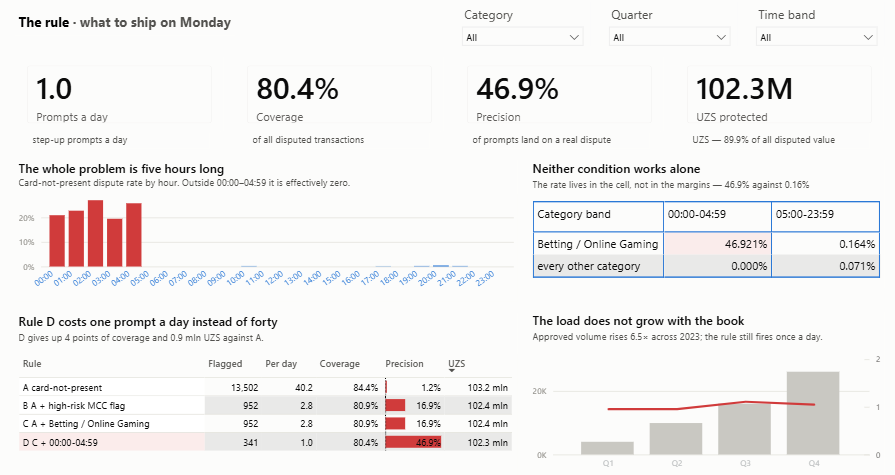

What the dashboard file says about the page in this screenshot:
{"tool":"powerbi","page":{"name":"The rule","canvas":[1280,720],"ordinal":2},"visuals":[{"type":"textbox","box":[24,39,400,32],"z":0},{"type":"slicer","fields":{"Values":["uzcard dim_merchant.category_group"]},"box":[648,24,192,62],"z":1000},{"type":"slicer","fields":{"Values":["uzcard dim_date.quarter_name"]},"box":[856,24,192,62],"z":2000},{"type":"slicer","fields":{"Values":["uzcard dim_hour.time_band"]},"box":[1064,24,192,62],"z":3000},{"type":"cardVisual","fields":{"Data":["uzcard rule_scorecard.Rule D prompts"]},"box":[24,102,296,106],"z":4000},{"type":"cardVisual","fields":{"Data":["uzcard rule_scorecard.Rule D coverage"]},"box":[336,102.1,296,106],"z":5000},{"type":"cardVisual","fields":{"Data":["uzcard rule_scorecard.Rule D precision"]},"box":[648,102.1,296,106],"z":6000},{"type":"cardVisual","fields":{"Data":["uzcard rule_scorecard.Rule D protected"]},"box":[960,102.1,296,106],"z":7000},{"type":"textbox","box":[44,210,256,22],"z":8000},{"type":"textbox","box":[356,210,256,22],"z":9000},{"type":"textbox","box":[668,210,256,22],"z":10000},{"type":"textbox","box":[980,210,256,22],"z":11000},{"type":"columnChart","title":"The whole problem is five hours long","fields":{"Category":["uzcard dim_hour.hour_label"],"Y":["uzcard fact_transactions.Dispute rate"],"Series":["uzcard dim_hour.time_band"]},"box":[24,248,712,200],"z":12000},{"type":"pivotTable","title":"Neither condition works alone","fields":{"Rows":["uzcard dim_merchant.Category band"],"Columns":["uzcard dim_hour.time_band"],"Values":["uzcard fact_transactions.Dispute rate"]},"box":[752,248,504,200],"z":13000},{"type":"tableEx","title":"Rule D costs one prompt a day instead of forty","fields":{"Values":["uzcard rule_scorecard.rule","Sum(uzcard rule_scorecard.flagged)","Sum(uzcard rule_scorecard.prompts_per_day)","Sum(uzcard rule_scorecard.coverage_pct)","Sum(uzcard rule_scorecard.precision_pct)","uzcard rule_scorecard.UZS protected (mln)"]},"box":[24.1,464.3,712,232.2],"z":14000},{"type":"lineClusteredColumnComboChart","title":"The load does not grow with the book","fields":{"Category":["uzcard dim_date.quarter_name"],"Y":["uzcard fact_transactions.Approved"],"Y2":["uzcard rule_scorecard.Rule D per day"]},"box":[752,464,504,232],"z":15000}]}

Visuals, with their boxes on the page's 1280x720 design canvas (x1, y1, x2, y2). These are canvas units, not pixel positions in the 895x475 screenshot, which may show the page scaled, cropped or inside an application window:
textbox: select_region(24, 39, 424, 71)
slicer - uzcard dim_merchant.category_group: select_region(648, 24, 840, 86)
slicer - uzcard dim_date.quarter_name: select_region(856, 24, 1048, 86)
slicer - uzcard dim_hour.time_band: select_region(1064, 24, 1256, 86)
cardVisual - uzcard rule_scorecard.Rule D prompts: select_region(24, 102, 320, 208)
cardVisual - uzcard rule_scorecard.Rule D coverage: select_region(336, 102, 632, 208)
cardVisual - uzcard rule_scorecard.Rule D precision: select_region(648, 102, 944, 208)
cardVisual - uzcard rule_scorecard.Rule D protected: select_region(960, 102, 1256, 208)
textbox: select_region(44, 210, 300, 232)
textbox: select_region(356, 210, 612, 232)
textbox: select_region(668, 210, 924, 232)
textbox: select_region(980, 210, 1236, 232)
"The whole problem is five hours long" columnChart: select_region(24, 248, 736, 448)
"Neither condition works alone" pivotTable: select_region(752, 248, 1256, 448)
"Rule D costs one prompt a day instead of forty" tableEx: select_region(24, 464, 736, 696)
"The load does not grow with the book" lineClusteredColumnComboChart: select_region(752, 464, 1256, 696)
